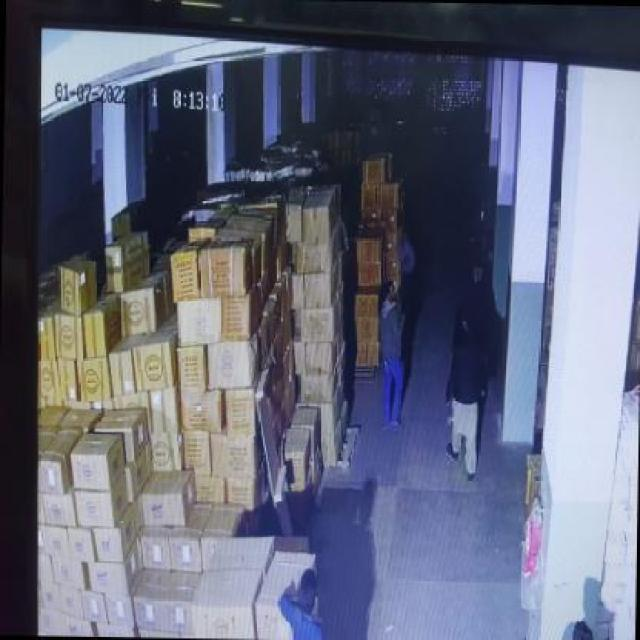fire: (386, 220, 416, 300)
